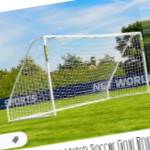goals: (6, 30, 150, 123)
